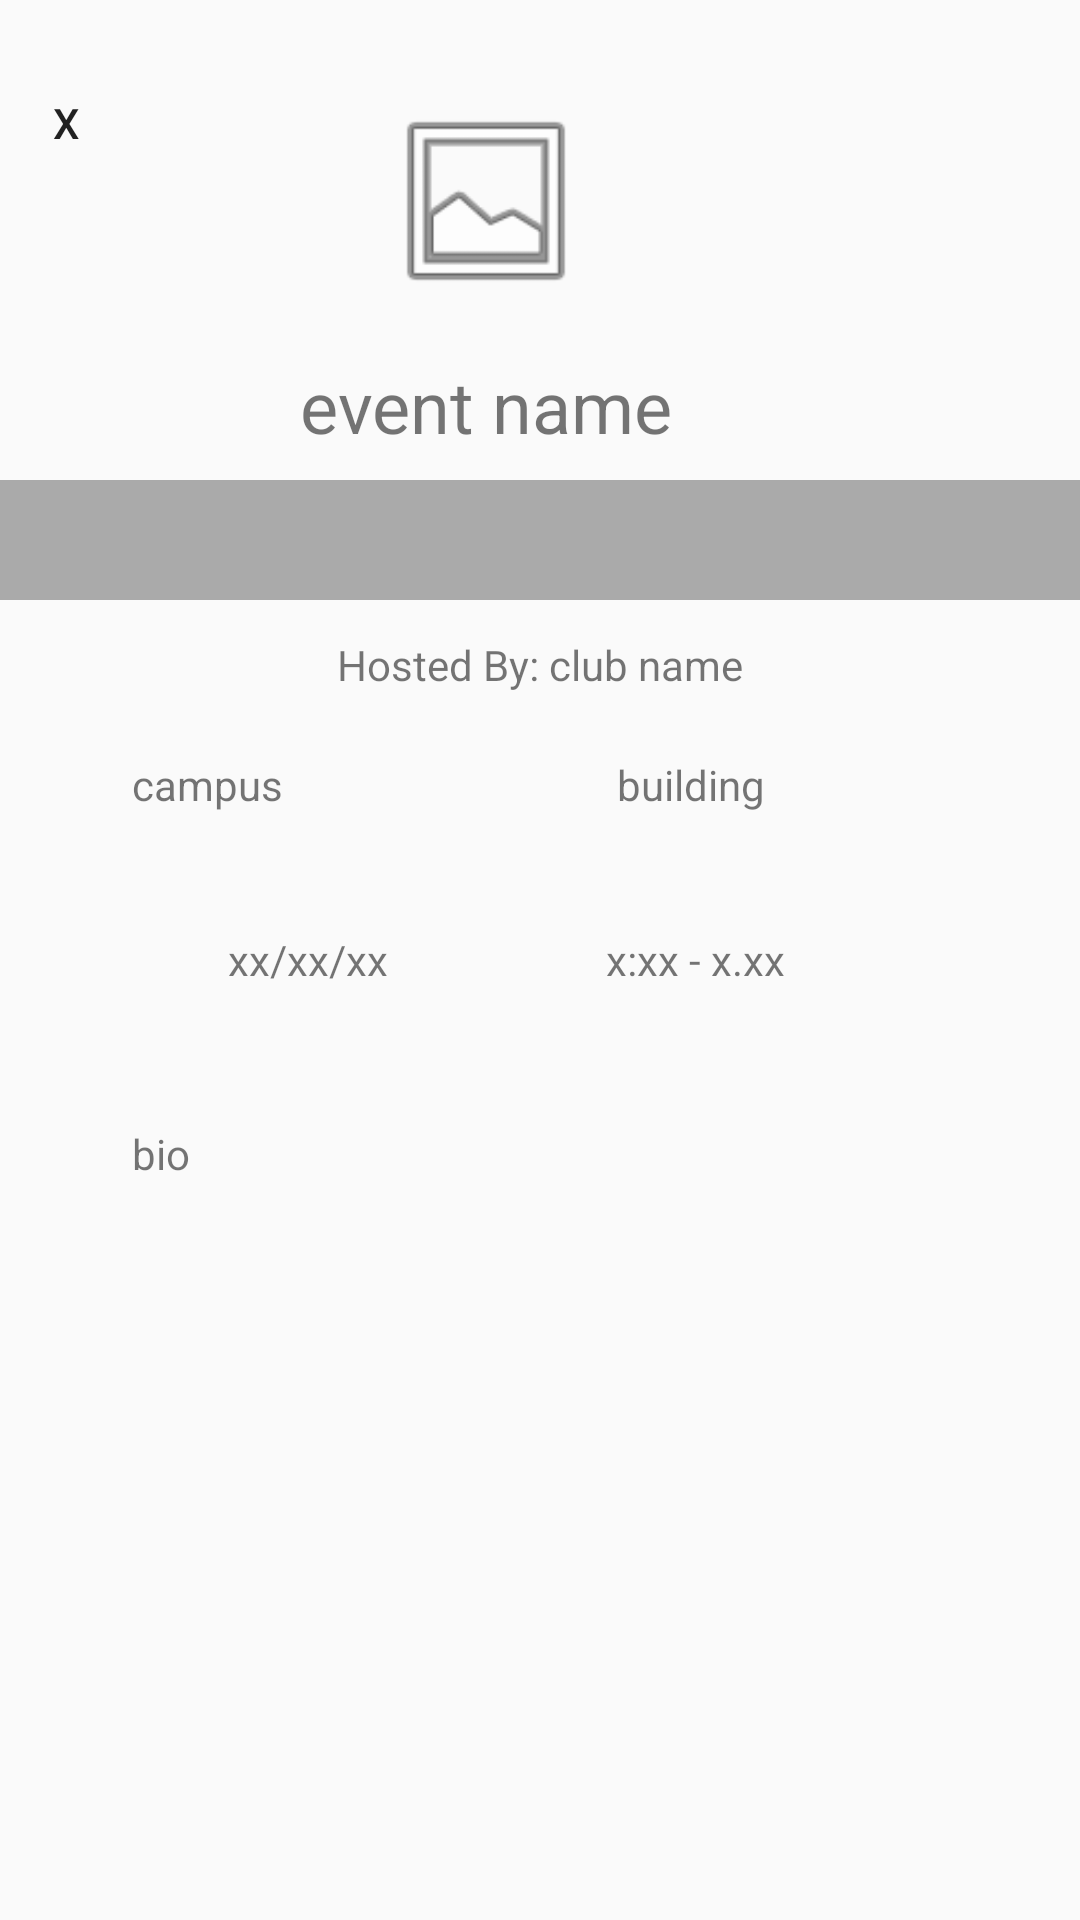

Icon bounding boxes for this 1080w x 1920h phone screenshot, format [left=x1, top=y1, right=x2, bottom=y2]:
gallery: [left=407, top=122, right=565, bottom=280]
